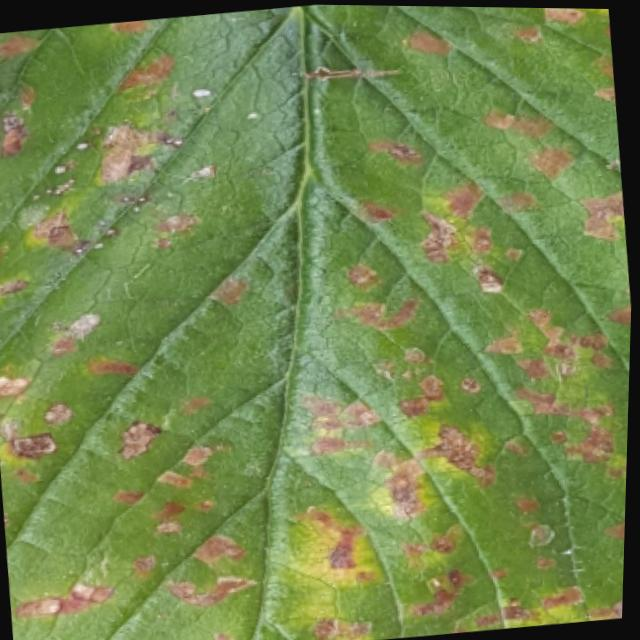Angular Leafspot: (0, 4, 633, 640)
